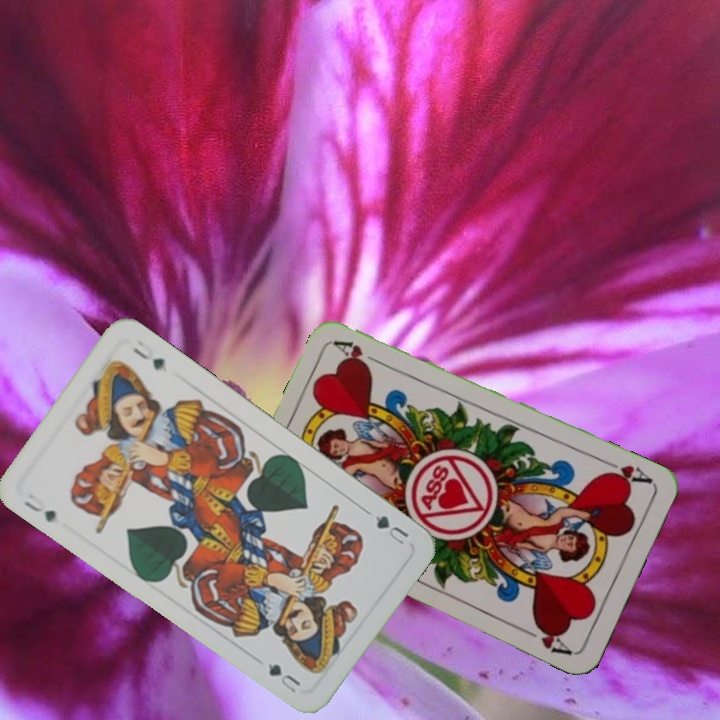GU: (362, 506, 412, 548), (19, 496, 59, 525)
HA: (598, 455, 655, 488)
